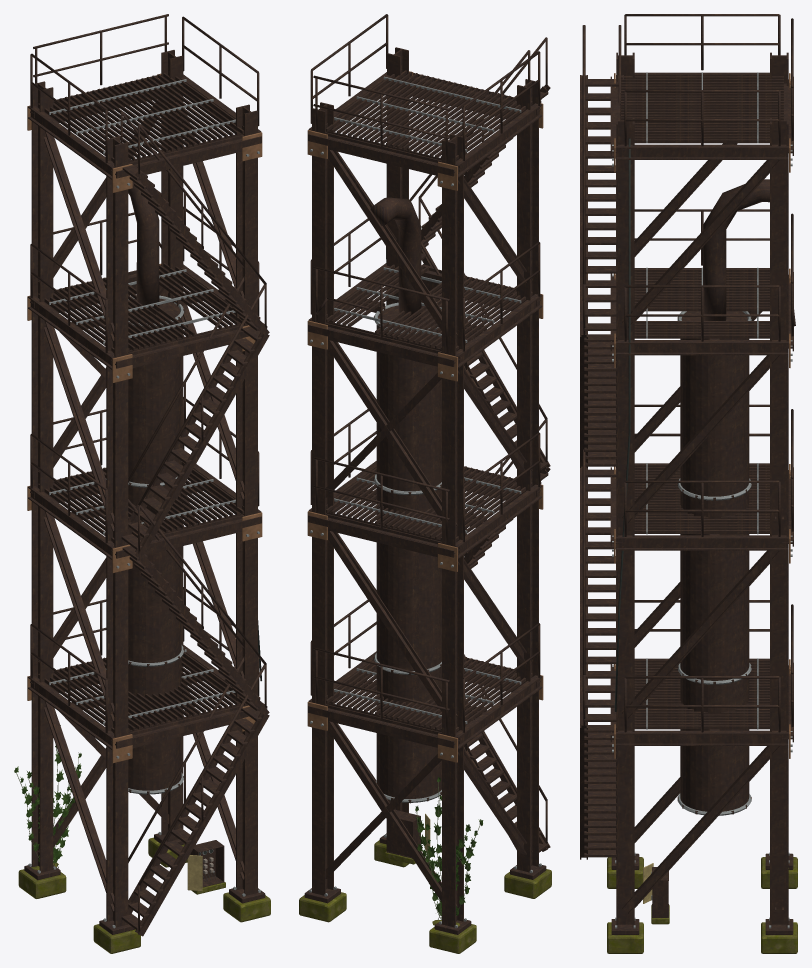
The model's file is f3_v2_service_tower.glb.
3 views of the same model, side by side, from view 1: azimuth 30°, elevation 25°; view 2: azimuth 150°, elevation 25°; view 3: azimuth 270°, elevation 25° (orthographic). The views are drawn at different scales.
Visible parts, largest first — view 1: f3_oxidized_iron_surface.001, f3_bare_worn_steel_surface.001, f3_damp_concrete_surface.001, v2_faded_iron_oxide_primer_surface, f3_lobed_ivy_veined_surface, f3_oxidized_iron.001_surface, f3_faded_safety_ochre_surface; view 2: f3_oxidized_iron_surface.001, f3_bare_worn_steel_surface.001, v2_faded_iron_oxide_primer_surface, f3_damp_concrete_surface.001, f3_lobed_ivy_veined_surface, f3_oxidized_iron.001_surface; view 3: f3_oxidized_iron_surface.001, f3_damp_concrete_surface.001, f3_bare_worn_steel_surface.001, f3_deep_crack_surface.001, v2_faded_iron_oxide_primer_surface, f3_oxidized_iron.001_surface.
Boxes of the visible parts, bbox=[...] form: f3_oxidized_iron_surface.001: bbox=[24, 14, 269, 936]; f3_bare_worn_steel_surface.001: bbox=[28, 79, 260, 928]; f3_damp_concrete_surface.001: bbox=[18, 837, 270, 953]; v2_faded_iron_oxide_primer_surface: bbox=[27, 73, 262, 763]; f3_lobed_ivy_veined_surface: bbox=[14, 725, 81, 862]; f3_oxidized_iron.001_surface: bbox=[190, 840, 224, 887]; f3_faded_safety_ochre_surface: bbox=[187, 855, 202, 891]; f3_oxidized_iron_surface.001: bbox=[304, 14, 550, 934]; f3_bare_worn_steel_surface.001: bbox=[309, 76, 541, 928]; v2_faded_iron_oxide_primer_surface: bbox=[307, 71, 543, 762]; f3_damp_concrete_surface.001: bbox=[299, 840, 551, 953]; f3_lobed_ivy_veined_surface: bbox=[415, 777, 483, 915]; f3_oxidized_iron.001_surface: bbox=[386, 809, 420, 858]; f3_oxidized_iron_surface.001: bbox=[580, 14, 795, 934]; f3_damp_concrete_surface.001: bbox=[607, 857, 797, 953]; f3_bare_worn_steel_surface.001: bbox=[612, 72, 792, 928]; f3_deep_crack_surface.001: bbox=[614, 138, 630, 711]; v2_faded_iron_oxide_primer_surface: bbox=[614, 73, 790, 758]; f3_oxidized_iron.001_surface: bbox=[652, 867, 668, 917].
Size of the model in its own units: 3.36 by 15.45 by 3.53.
Materials: 14 (14 with a texture image).
